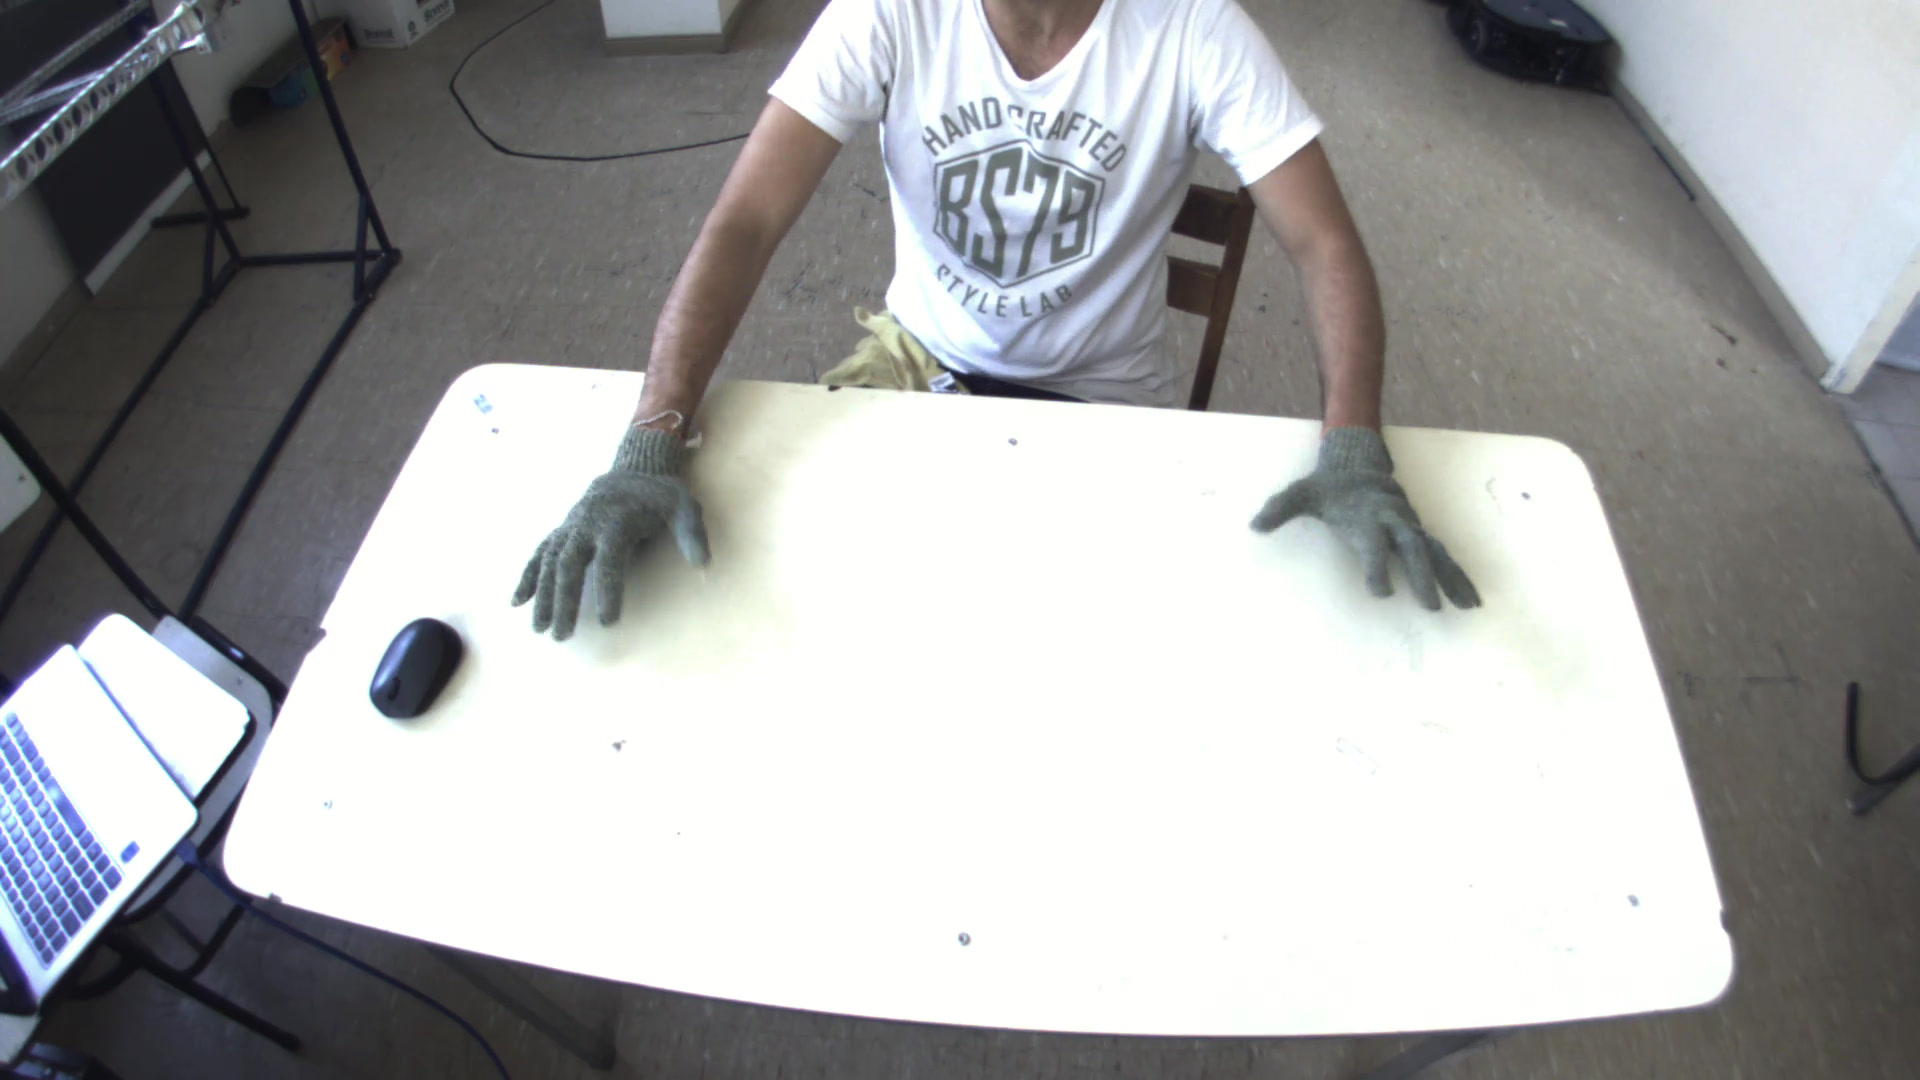hand: (497, 402, 717, 649), (1247, 407, 1474, 615)
